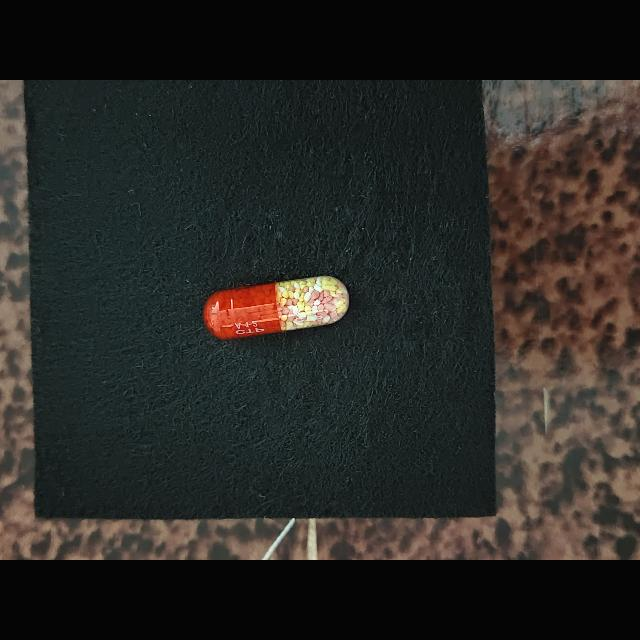Intact Capsule: (203, 276, 349, 339)
